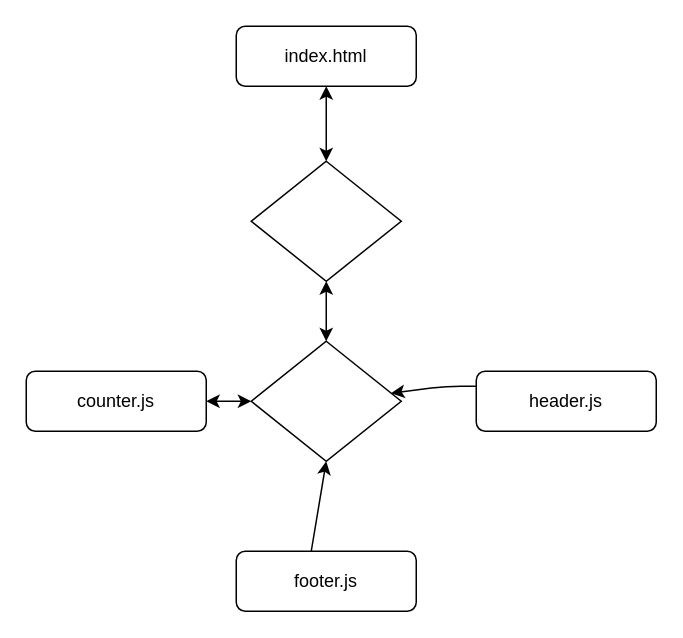
This 683x638 diagram has some shape labels left out. Each missing label, with the box of its shape:
app.js: (250, 340, 401, 461)
index.js: (250, 160, 401, 281)
